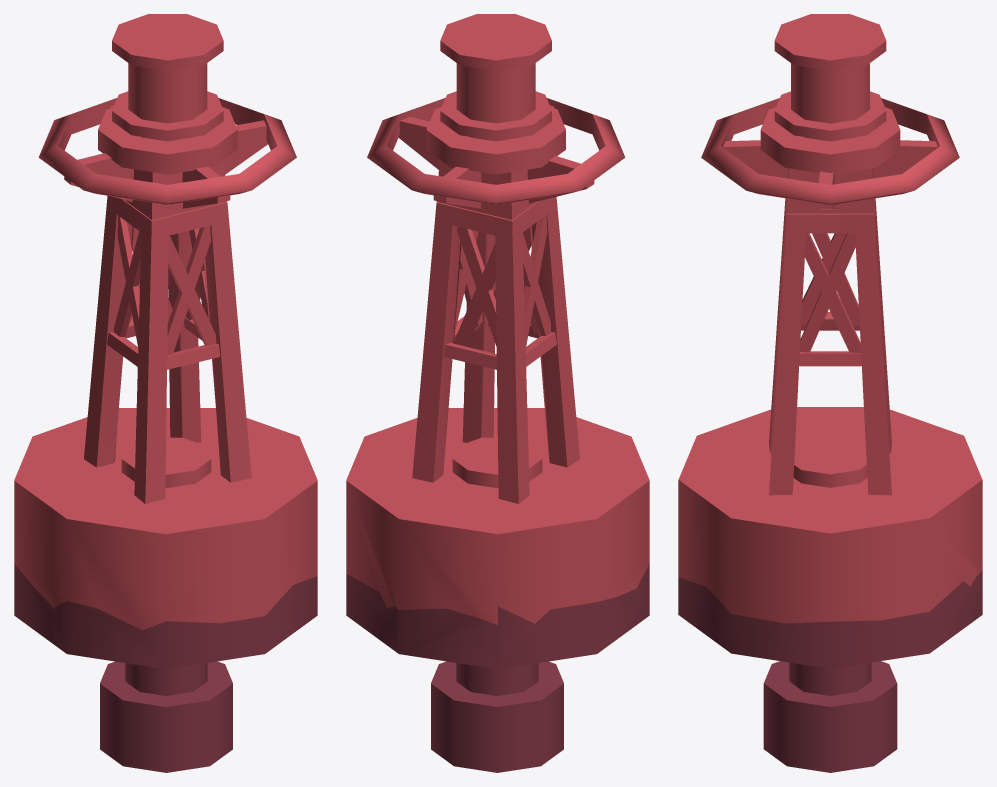
Rendered from Buoy.fbx.
3 views of the same model, side by side, from view 1: azimuth 30°, elevation 25°; view 2: azimuth 150°, elevation 25°; view 3: azimuth 270°, elevation 25° (orthographic).
Visible parts, largest first — view 1: Buoy; view 2: Buoy; view 3: Buoy.
Boxes of the visible parts, x1=… form: Buoy: x1=14, y1=14, x2=317, y2=772; Buoy: x1=346, y1=14, x2=649, y2=772; Buoy: x1=678, y1=14, x2=982, y2=772.
Bounding box in the file's own units: 22.6 × 59.01 × 22.95.
